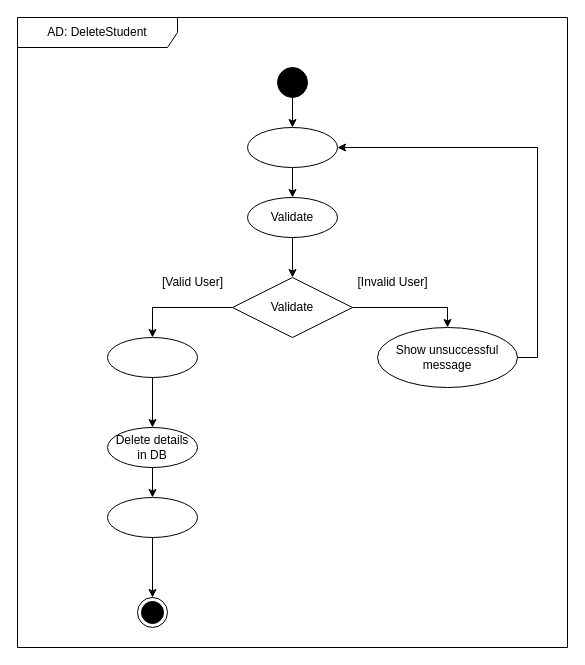
Image size: 585x665. Some labels were removed from this diagram. The shapes that lost their labels are listed below. From the top down, each one's centre as x and y in pixels, then its label:
point 292,147: Login
point 152,357: Delete Student
point 152,517: View Students
